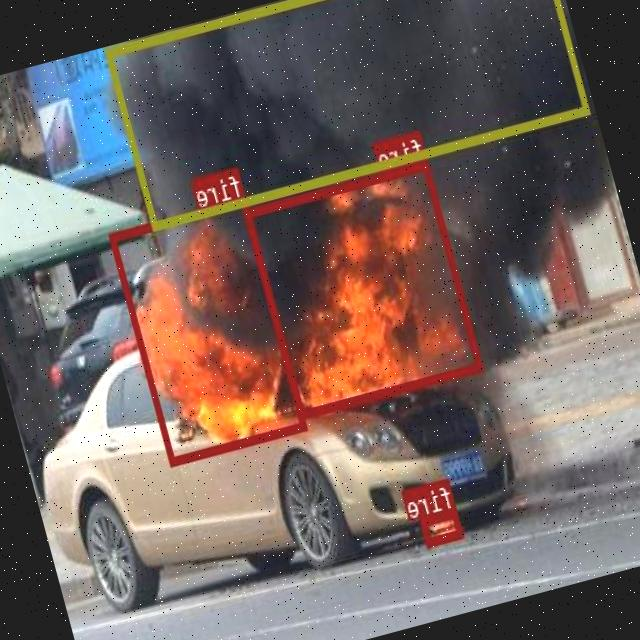fire: (245, 159, 484, 418), (110, 196, 308, 464), (420, 506, 464, 544)
smoke: (105, 0, 590, 228)
